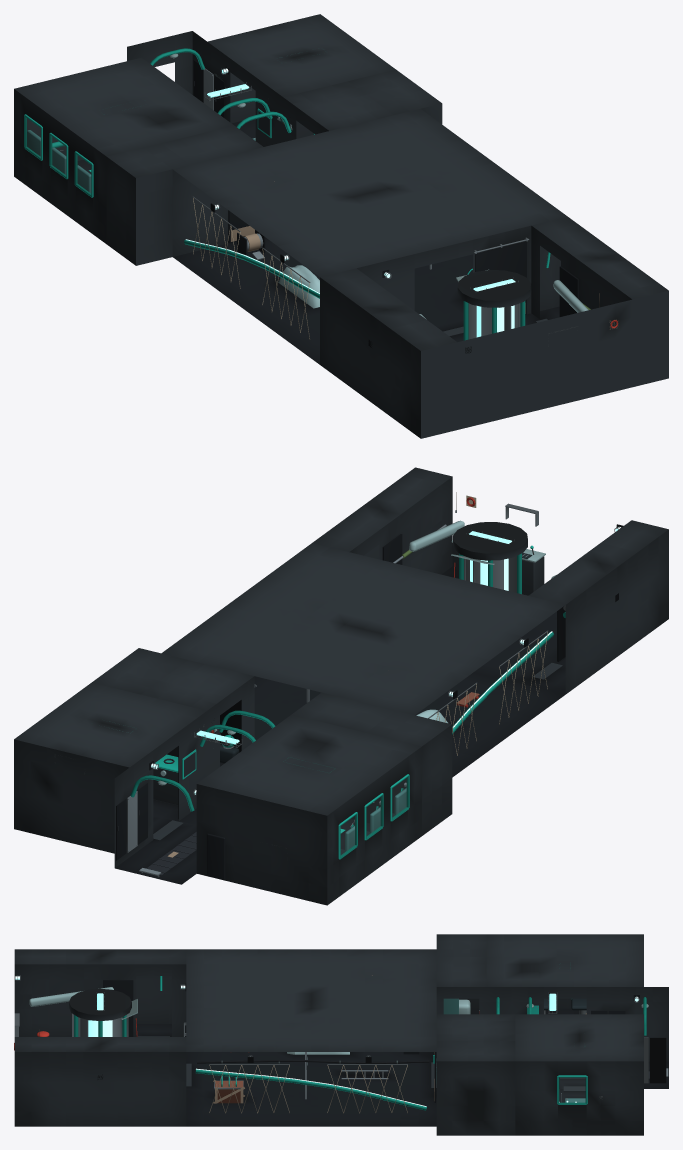
Rendered from stoat.glb.
3 views of the same model, one above another, from view 1: azimuth 30°, elevation 25°; view 2: azimuth 150°, elevation 25°; view 3: azimuth 270°, elevation 25° (orthographic). The views are drawn at different scales.
Visible parts, largest first — view 1: cargo hold roof - Frame, Engine bulkheads - Frame, Service alleys - Frame, passenger cabin roof - Frame, cargo hold deck - Panel, galley roof - Frame, Freight bulkheads - Frame, Cabin glazing - Frame, Scrubber bay - Frame, Hall bulkheads - Frame, airlock roof - Frame, scrubber bay roof - Frame (+11 smaller); view 2: cargo hold roof - Frame, Cabin glazing - Frame, passenger cabin roof - Frame, Service alleys - Frame, Galley walls - Frame, galley roof - Frame, cargo hold deck - Panel, Hall bulkheads - Frame, airlock roof - Frame, Engine bulkheads - Frame, scrubber bay roof - Frame, port alley roof - Frame (+15 smaller); view 3: cargo hold roof - Frame, cargo hold deck - Panel, Service alleys - Frame, Galley walls - Frame, passenger cabin roof - Frame, Engine bulkheads - Frame, galley roof - Frame, Airlock - Frame, Hall bulkheads - Frame, airlock roof - Frame, port alley roof - Frame, scrubber bay roof - Frame (+16 smaller).
Boxes of the visible parts, bbox=[...] form: cargo hold roof - Frame: bbox=[173, 109, 567, 276]; Engine bulkheads - Frame: bbox=[457, 226, 632, 429]; Service alleys - Frame: bbox=[320, 277, 668, 438]; passenger cabin roof - Frame: bbox=[14, 57, 233, 156]; cargo hold deck - Panel: bbox=[173, 237, 472, 364]; galley roof - Frame: bbox=[208, 14, 395, 96]; Freight bulkheads - Frame: bbox=[172, 169, 560, 314]; Cabin glazing - Frame: bbox=[14, 89, 106, 243]; Scrubber bay - Frame: bbox=[106, 157, 172, 265]; Hall bulkheads - Frame: bbox=[127, 31, 328, 146]; airlock roof - Frame: bbox=[283, 69, 441, 130]; scrubber bay roof - Frame: bbox=[107, 125, 262, 177]; cargo hold roof - Frame: bbox=[161, 543, 564, 715]; Cabin glazing - Frame: bbox=[196, 747, 421, 905]; passenger cabin roof - Frame: bbox=[197, 714, 421, 815]; Service alleys - Frame: bbox=[364, 529, 668, 694]; Galley walls - Frame: bbox=[14, 739, 178, 853]; galley roof - Frame: bbox=[14, 682, 206, 767]; cargo hold deck - Panel: bbox=[254, 672, 564, 777]; Hall bulkheads - Frame: bbox=[114, 676, 254, 867]; airlock roof - Frame: bbox=[92, 648, 254, 710]; Engine bulkheads - Frame: bbox=[349, 477, 452, 574]; scrubber bay roof - Frame: bbox=[292, 692, 451, 746]; port alley roof - Frame: bbox=[528, 520, 668, 604]; cargo hold roof - Frame: bbox=[186, 949, 436, 1051]; cargo hold deck - Panel: bbox=[186, 1052, 436, 1126]; Service alleys - Frame: bbox=[14, 976, 186, 1126]; Galley walls - Frame: bbox=[515, 1061, 643, 1135]; passenger cabin roof - Frame: bbox=[486, 934, 643, 986]; Engine bulkheads - Frame: bbox=[14, 964, 186, 1036]; galley roof - Frame: bbox=[515, 1014, 643, 1061]; Airlock - Frame: bbox=[436, 1061, 515, 1135]; Hall bulkheads - Frame: bbox=[436, 987, 668, 1061]; airlock roof - Frame: bbox=[436, 1014, 515, 1061]; port alley roof - Frame: bbox=[14, 949, 186, 964]; scrubber bay roof - Frame: bbox=[436, 934, 486, 986].
Size of the model in its own units: 8.46 by 2.33 by 18.32.
